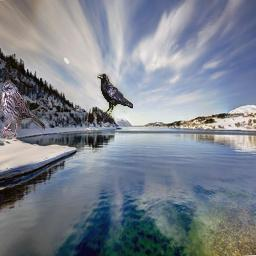Crow: (97, 74, 133, 119)
Sparrow: (0, 81, 45, 138)
